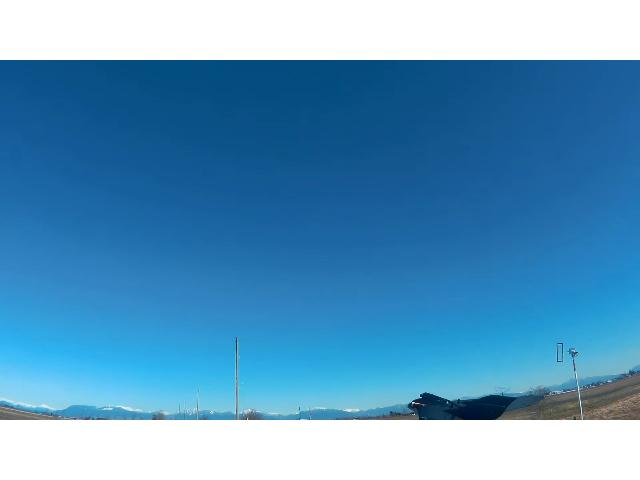Anti-Drone: (392, 390, 546, 420)
